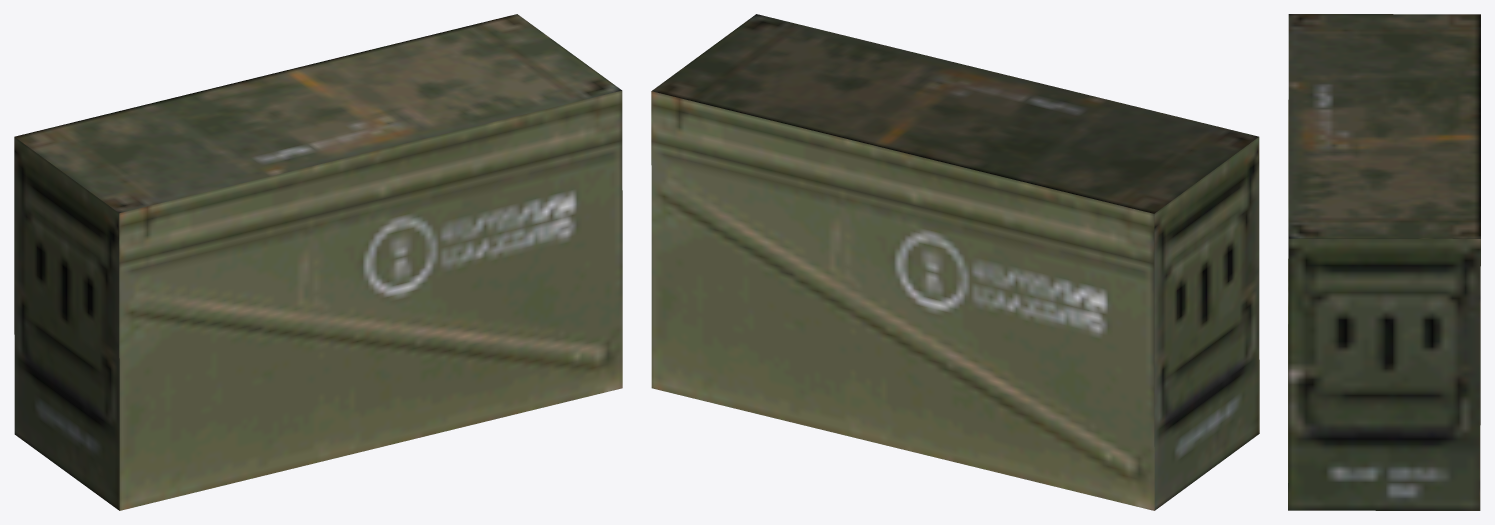
File: codicon.icn.obj
The picture shows the model from 3 angles, left to right: view 1: azimuth 30°, elevation 25°; view 2: azimuth 150°, elevation 25°; view 3: azimuth 270°, elevation 25°; orthographic projection. The views are drawn at different scales.
Size of the model in its own units: 5 by 2.83 by 1.81.
Materials: 1 (1 with a texture image).
